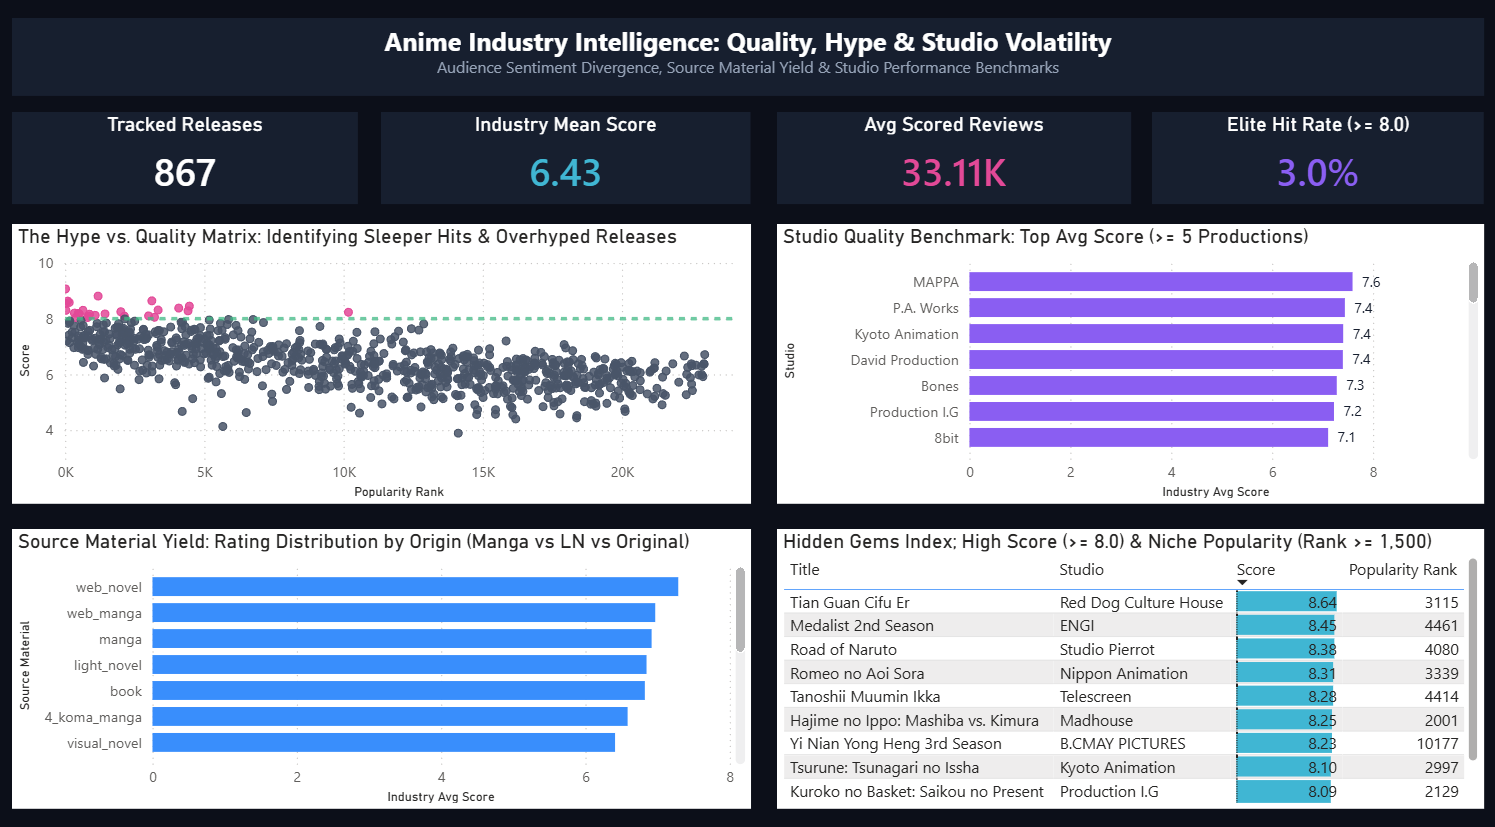

Layout of this report page (visuals, bound fields, positions):
{"tool":"powerbi","page":{"name":"Page 1","canvas":[1280,720],"ordinal":0},"visuals":[{"type":"cardVisual","title":"Tracked Releases","fields":{"Data":["_Measures.Total Anime Titles"]},"box":[14.4,102.5,293.1,77.9],"z":0},{"type":"textbox","box":[14.4,22.9,1246.9,66.1],"z":1000},{"type":"cardVisual","title":"Industry Mean Score","fields":{"Data":["_Measures.Industry Avg Score"]},"box":[327,102.5,313.4,77.9],"z":2000},{"type":"cardVisual","title":"Avg Scored Reviews","fields":{"Data":["_Measures.Avg Review Volume"]},"box":[662.4,102.5,299.9,77.9],"z":3000},{"type":"cardVisual","title":"Elite Hit Rate (>= 8.0)","fields":{"Data":["_Measures.Elite Hit Rate Pct"]},"box":[980,102.5,281.2,77.9],"z":4000},{"type":"scatterChart","title":"The Hype vs. Quality Matrix: Identifying Sleeper Hits & Overhyped Releases","fields":{"Category":["anime_clean.title"],"X":["Sum(anime_clean.popularity_rank)"],"Y":["Sum(anime_clean.score)"]},"box":[14.4,197.4,626,237.2],"z":4001},{"type":"clusteredBarChart","title":"Studio Quality Benchmark: Top Avg Score (>= 5 Productions)","fields":{"Category":["anime_clean.studio"],"Y":["_Measures.Industry Avg Score"]},"box":[662.4,197.4,598.9,237.2],"z":4002},{"type":"clusteredBarChart","title":"Source Material Yield: Rating Distribution by Origin (Manga vs LN vs Original)","fields":{"Category":["anime_clean.source_material"],"Y":["_Measures.Industry Avg Score"]},"box":[14.4,455.7,626,237.2],"z":4003},{"type":"tableEx","title":"Hidden Gems Index; High Score (>= 8.0) & Niche Popularity (Rank >= 1,500)","fields":{"Values":["anime_clean.title","anime_clean.studio","Sum(anime_clean.score)","Sum(anime_clean.popularity_rank)"]},"box":[662.4,455.7,598.9,237.2],"z":4004}]}

Visuals, with their boxes in screenshot pixels (x1, y1, x2, y2), scaled from the page's 1280x720 canvas onto the 1495x827 screenshot:
"Tracked Releases" cardVisual: l=17, t=118, r=359, b=207
textbox: l=17, t=26, r=1473, b=102
"Industry Mean Score" cardVisual: l=382, t=118, r=748, b=207
"Avg Scored Reviews" cardVisual: l=774, t=118, r=1124, b=207
"Elite Hit Rate (>= 8.0)" cardVisual: l=1145, t=118, r=1473, b=207
"The Hype vs. Quality Matrix: Identifying Sleeper Hits & Overhyped Releases" scatterChart: l=17, t=227, r=748, b=499
"Studio Quality Benchmark: Top Avg Score (>= 5 Productions)" clusteredBarChart: l=774, t=227, r=1473, b=499
"Source Material Yield: Rating Distribution by Origin (Manga vs LN vs Original)" clusteredBarChart: l=17, t=523, r=748, b=796
"Hidden Gems Index; High Score (>= 8.0) & Niche Popularity (Rank >= 1,500)" tableEx: l=774, t=523, r=1473, b=796
